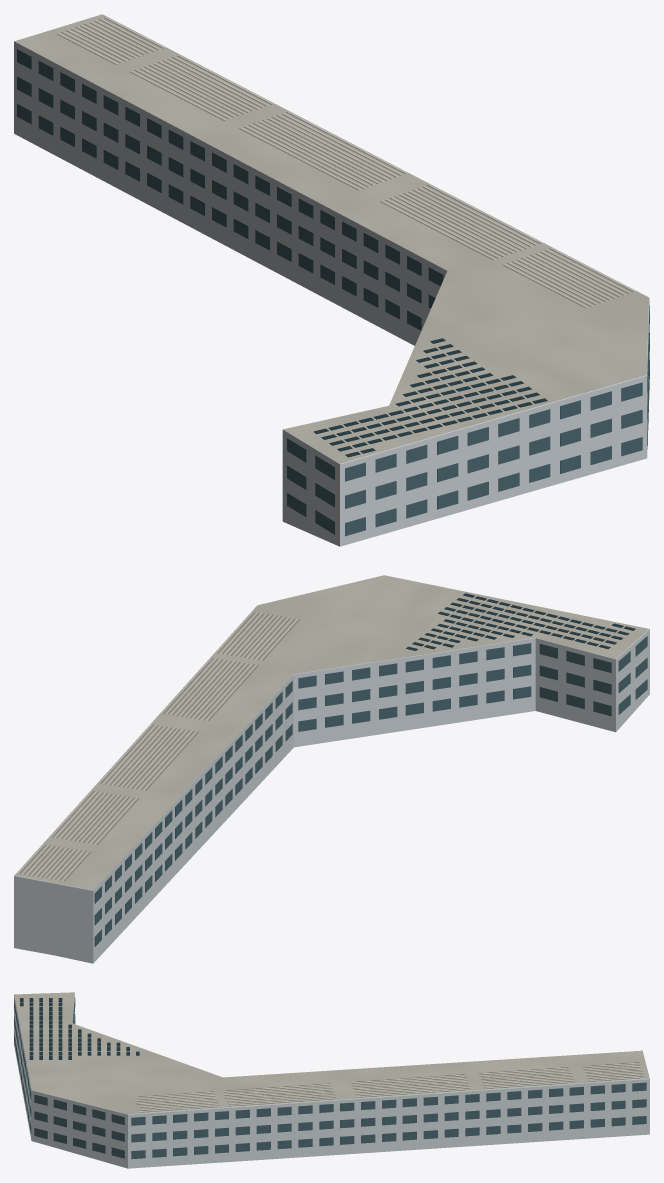
Rendered from fragments.glb.
3 views of the same model, one above another, from view 1: azimuth 30°, elevation 25°; view 2: azimuth 150°, elevation 25°; view 3: azimuth 270°, elevation 25° (orthographic). The views are drawn at different scales.
Parts seen in each view (by area): view 1: SM_cheong_Fragment_034, SM_cheong_Fragment_010, SM_cheong_Fragment_003, SM_cheong_Fragment_026, SM_cheong_Fragment_007, SM_cheong_Fragment_001, SM_cheong_Fragment_012, SM_cheong_Fragment_038, SM_cheong_Fragment_048, SM_cheong_Fragment_021, SM_cheong_Fragment_030, SM_cheong_Fragment_036 (+32 smaller); view 2: SM_cheong_Fragment_001, SM_cheong_Fragment_034, SM_cheong_Fragment_016, SM_cheong_Fragment_006, SM_cheong_Fragment_009, SM_cheong_Fragment_062, SM_cheong_Fragment_058, SM_cheong_Fragment_010, SM_cheong_Fragment_003, SM_cheong_Fragment_048, SM_cheong_Fragment_042, SM_cheong_Fragment_051 (+34 smaller); view 3: SM_cheong_Fragment_040, SM_cheong_Fragment_011, SM_cheong_Fragment_008, SM_cheong_Fragment_031, SM_cheong_Fragment_017, SM_cheong_Fragment_015, SM_cheong_Fragment_057, SM_cheong_Fragment_019, SM_cheong_Fragment_059, SM_cheong_Fragment_027, SM_cheong_Fragment_035, SM_cheong_Fragment_055 (+32 smaller).
Part boxes in pixels (x1,y1,x2,y2): SM_cheong_Fragment_034: [282, 418, 379, 517]; SM_cheong_Fragment_010: [212, 144, 304, 268]; SM_cheong_Fragment_003: [282, 453, 420, 546]; SM_cheong_Fragment_026: [366, 408, 468, 491]; SM_cheong_Fragment_007: [517, 371, 611, 446]; SM_cheong_Fragment_001: [14, 28, 70, 156]; SM_cheong_Fragment_012: [136, 105, 239, 177]; SM_cheong_Fragment_038: [47, 38, 141, 119]; SM_cheong_Fragment_048: [277, 167, 411, 237]; SM_cheong_Fragment_021: [590, 358, 647, 456]; SM_cheong_Fragment_030: [316, 201, 404, 282]; SM_cheong_Fragment_036: [58, 99, 132, 195]; SM_cheong_Fragment_001: [43, 874, 117, 963]; SM_cheong_Fragment_034: [575, 622, 649, 721]; SM_cheong_Fragment_016: [297, 643, 383, 713]; SM_cheong_Fragment_006: [363, 627, 465, 697]; SM_cheong_Fragment_009: [465, 628, 542, 719]; SM_cheong_Fragment_062: [403, 641, 477, 723]; SM_cheong_Fragment_058: [496, 622, 586, 685]; SM_cheong_Fragment_010: [171, 756, 217, 851]; SM_cheong_Fragment_003: [556, 665, 649, 732]; SM_cheong_Fragment_048: [149, 717, 235, 773]; SM_cheong_Fragment_042: [59, 810, 152, 860]; SM_cheong_Fragment_051: [291, 706, 370, 749]; SM_cheong_Fragment_040: [158, 1096, 219, 1166]; SM_cheong_Fragment_011: [105, 1099, 166, 1163]; SM_cheong_Fragment_008: [547, 1070, 608, 1138]; SM_cheong_Fragment_031: [465, 1073, 535, 1123]; SM_cheong_Fragment_017: [360, 1077, 424, 1126]; SM_cheong_Fragment_015: [51, 1087, 116, 1139]; SM_cheong_Fragment_057: [407, 1067, 472, 1114]; SM_cheong_Fragment_019: [277, 1086, 354, 1127]; SM_cheong_Fragment_059: [215, 1088, 280, 1133]; SM_cheong_Fragment_027: [200, 1126, 270, 1163]; SM_cheong_Fragment_035: [312, 1114, 375, 1156]; SM_cheong_Fragment_055: [600, 1064, 649, 1110].
Bounding box in the file's own units: 1 × 0.2167 × 2.2.
6 materials, 1 textured.
